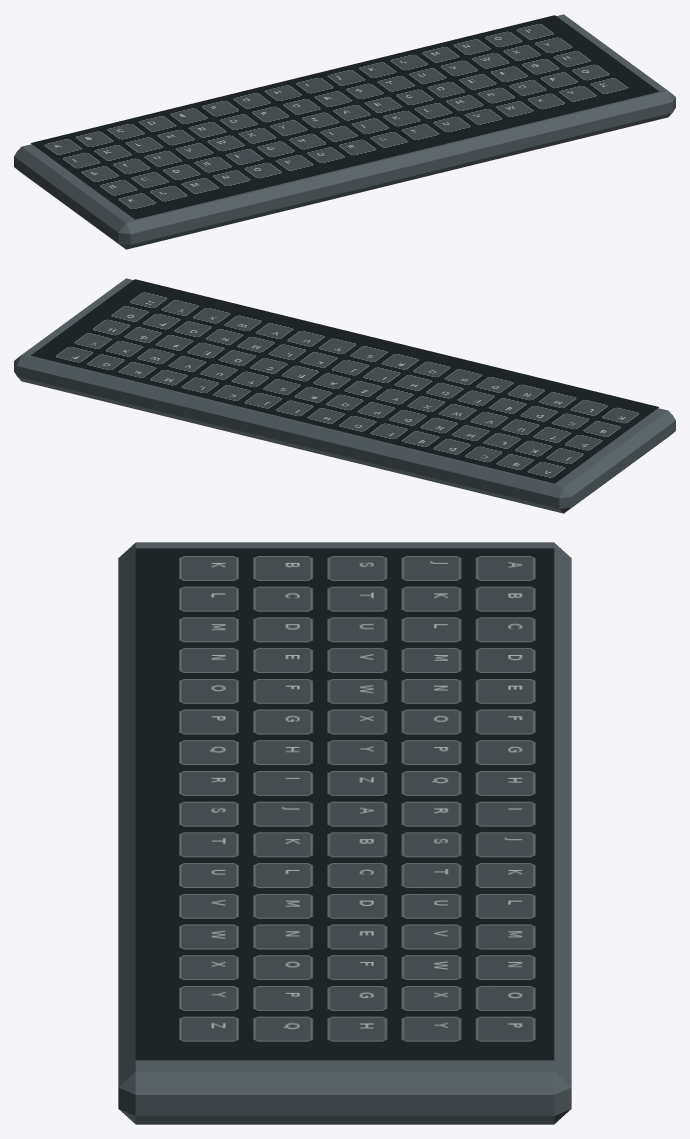
The model's file is Keyboard.glb.
3 views of the same model, one above another, from view 1: azimuth 30°, elevation 25°; view 2: azimuth 150°, elevation 25°; view 3: azimuth 270°, elevation 25° (orthographic). The views are drawn at different scales.
Visible parts, largest first — view 1: Keyboard__KeyboardKeys__mesh, Keyboard__BlackenedSteel__mesh; view 2: Keyboard__KeyboardKeys__mesh, Keyboard__BlackenedSteel__mesh; view 3: Keyboard__KeyboardKeys__mesh, Keyboard__BlackenedSteel__mesh.
Part boxes in pixels (x1,y1,x2,y2): Keyboard__KeyboardKeys__mesh: (31,15,658,219); Keyboard__BlackenedSteel__mesh: (14,14,675,249); Keyboard__KeyboardKeys__mesh: (31,279,658,483); Keyboard__BlackenedSteel__mesh: (14,278,675,513); Keyboard__KeyboardKeys__mesh: (135,548,554,1060); Keyboard__BlackenedSteel__mesh: (118,542,571,1124).
Bounding box in the file's own units: 0.44 × 0.021 × 0.155.
2 materials, 1 textured.
